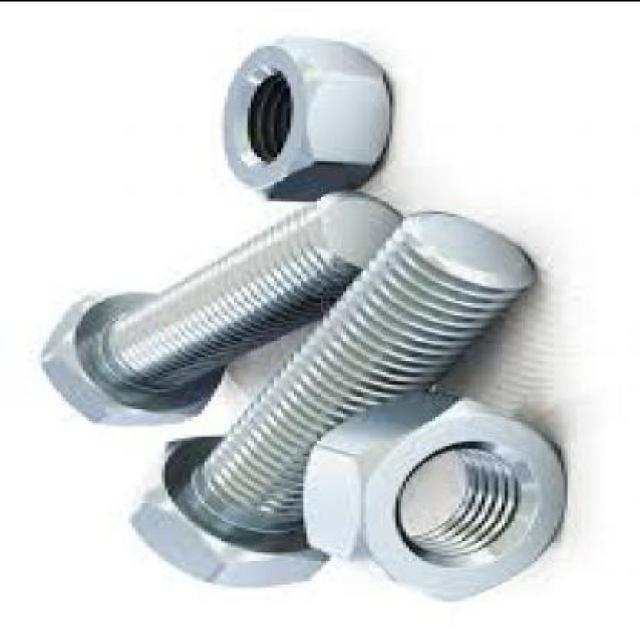METAL: (126, 215, 534, 588), (39, 193, 399, 427), (300, 393, 562, 605), (218, 37, 390, 203)
